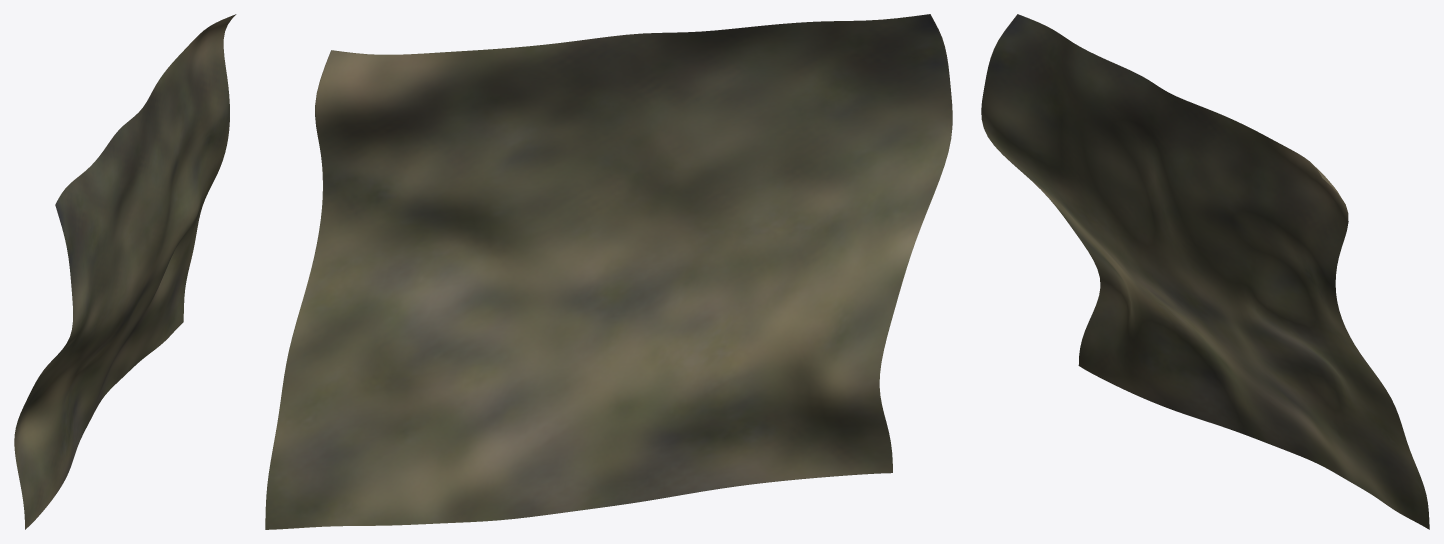
Rendered from ground_mid_02_04.obj.
3 views of the same model, side by side, from view 1: azimuth 30°, elevation 25°; view 2: azimuth 150°, elevation 25°; view 3: azimuth 270°, elevation 25° (orthographic). The views are drawn at different scales.
Visible parts, largest first — view 1: ground_mid_02_04; view 2: ground_mid_02_04; view 3: ground_mid_02_04.
Part boxes in pixels (x1,y1,x2,y2): ground_mid_02_04: (14, 14, 236, 529); ground_mid_02_04: (265, 14, 952, 529); ground_mid_02_04: (981, 14, 1429, 529).
Size of the model in its own units: 200 by 200 by 231.
1 material, 1 textured.
